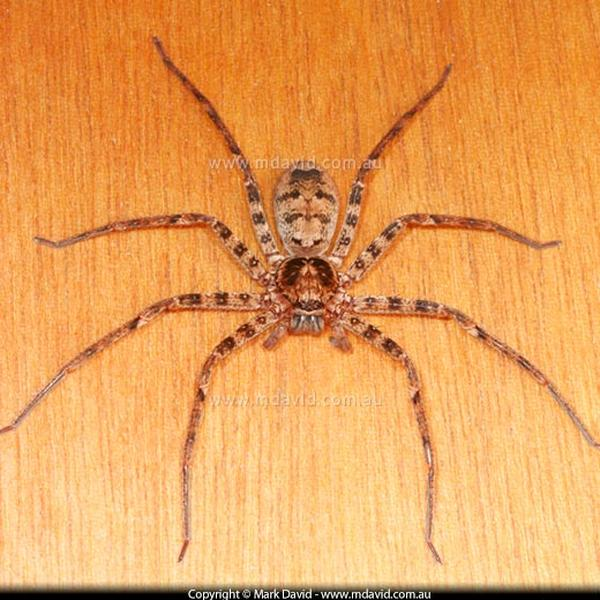Huntsman Spider: (34, 42, 572, 555)
